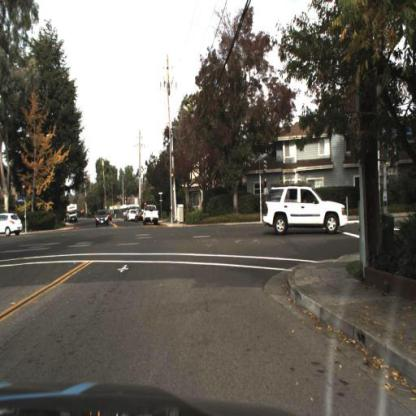car: (264, 186, 348, 238), (1, 212, 24, 238), (140, 199, 162, 226), (96, 210, 112, 228)
trafficLight-Red: (169, 165, 177, 188), (170, 171, 176, 189)
